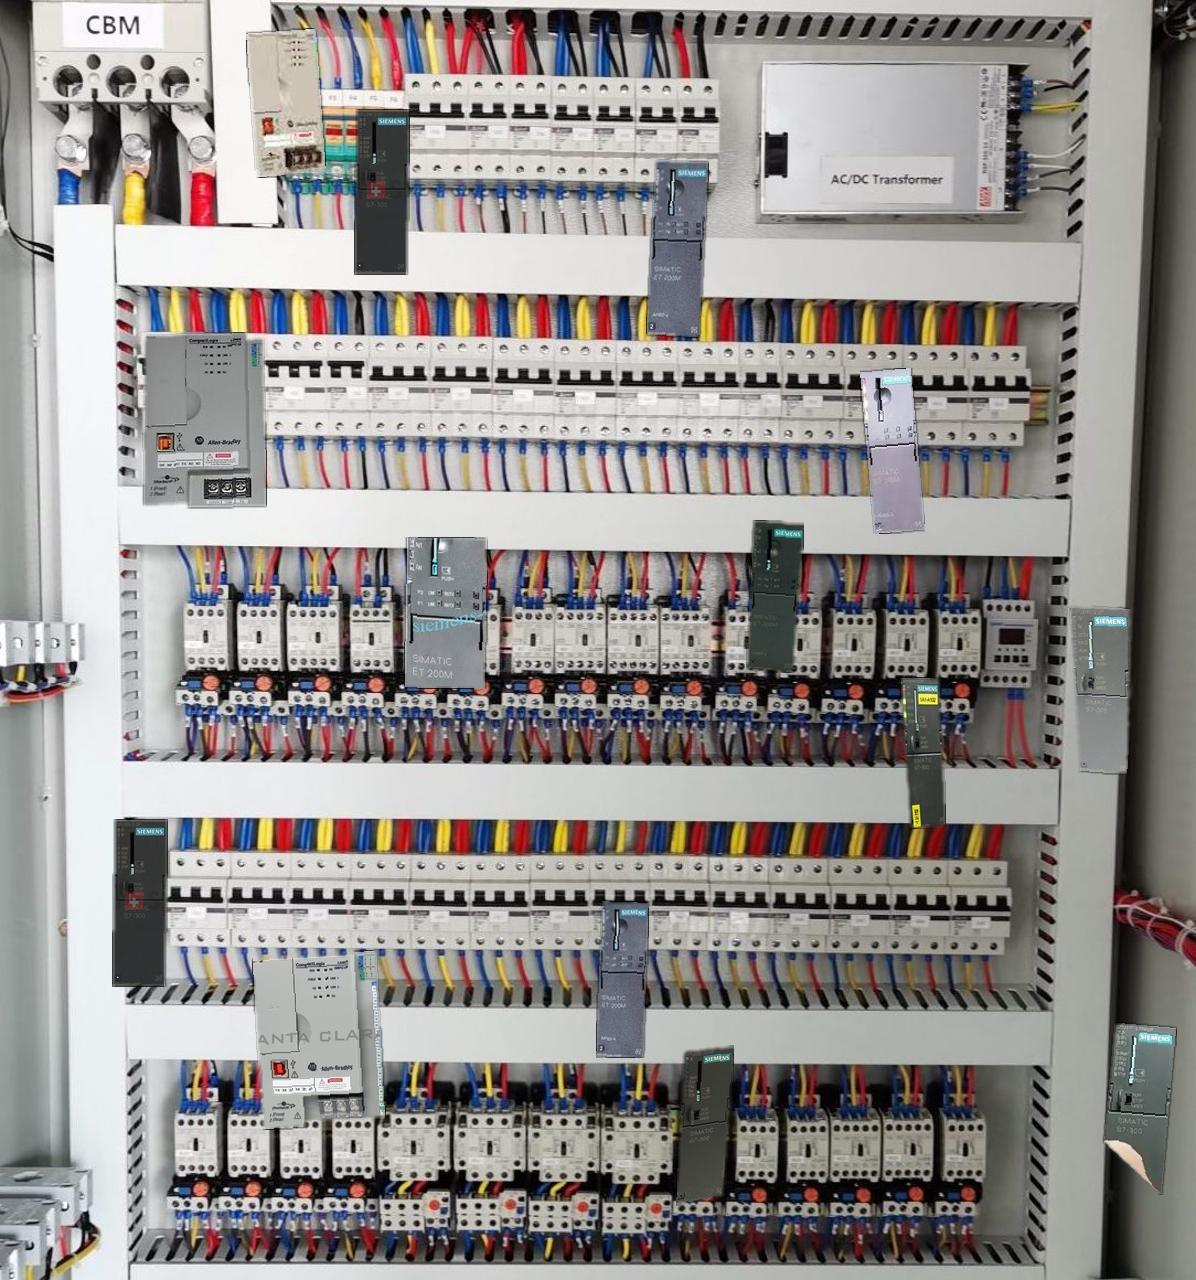AllenBradley: (253, 951, 384, 1128), (144, 333, 265, 506), (246, 29, 325, 176)
Siemens: (1104, 1023, 1175, 1193), (1071, 607, 1129, 772), (676, 1047, 733, 1202), (114, 820, 166, 984), (355, 110, 408, 273), (901, 678, 944, 827)
